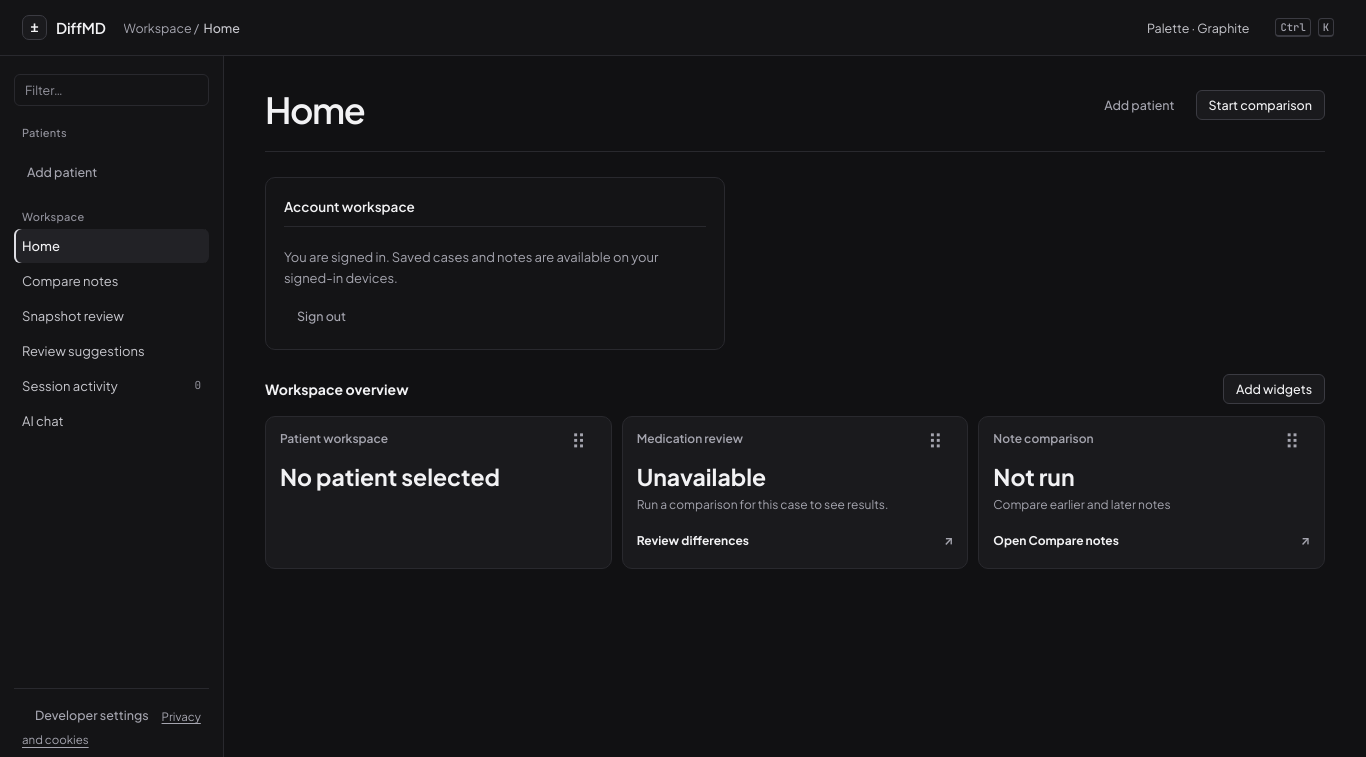
Test: Account workspace › creates an account case without uploading browser cases or writing on each keystroke
Later steps or results of the test are not shown.
Click the 1st button "Add patient" at [1139, 105], box [1091, 90, 1188, 120]
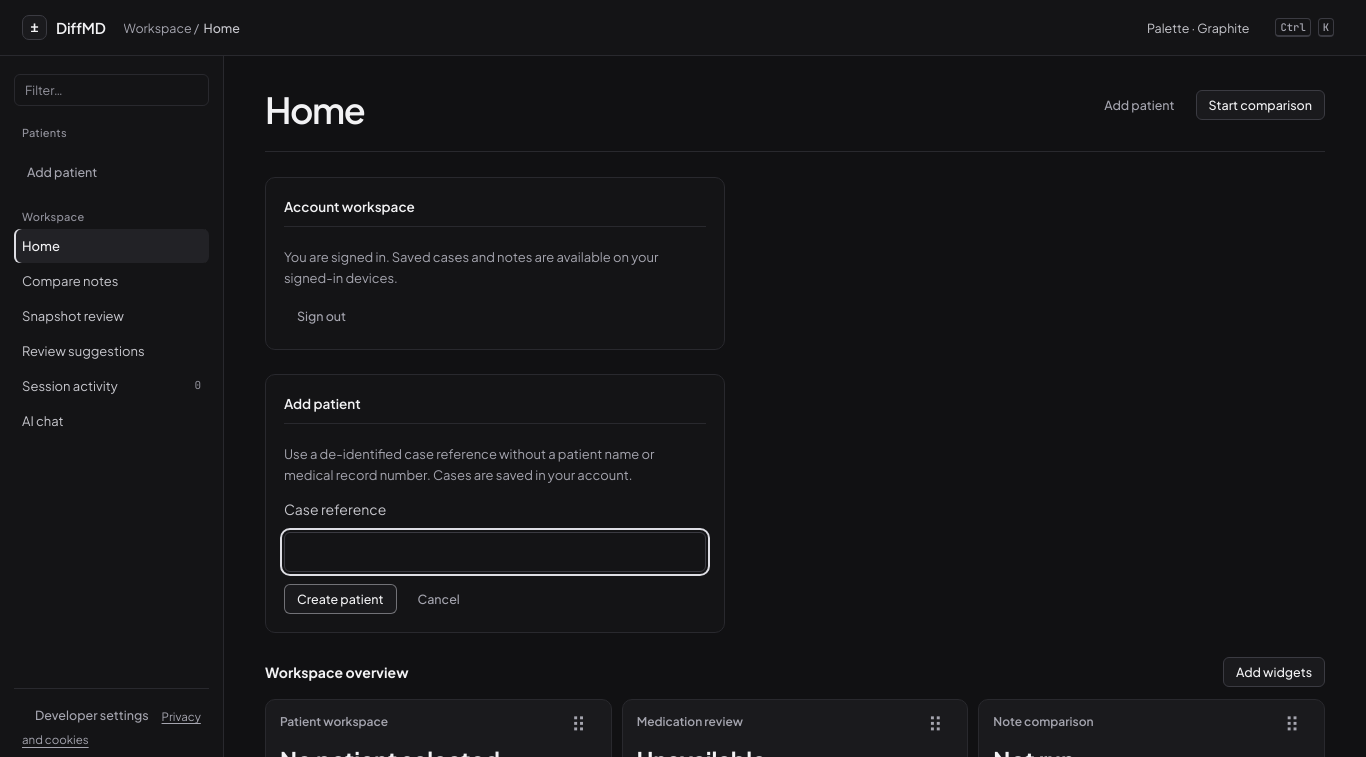
Type "Cloud reference" into the field labelled "Case reference" at [495, 552], box [284, 532, 706, 572]
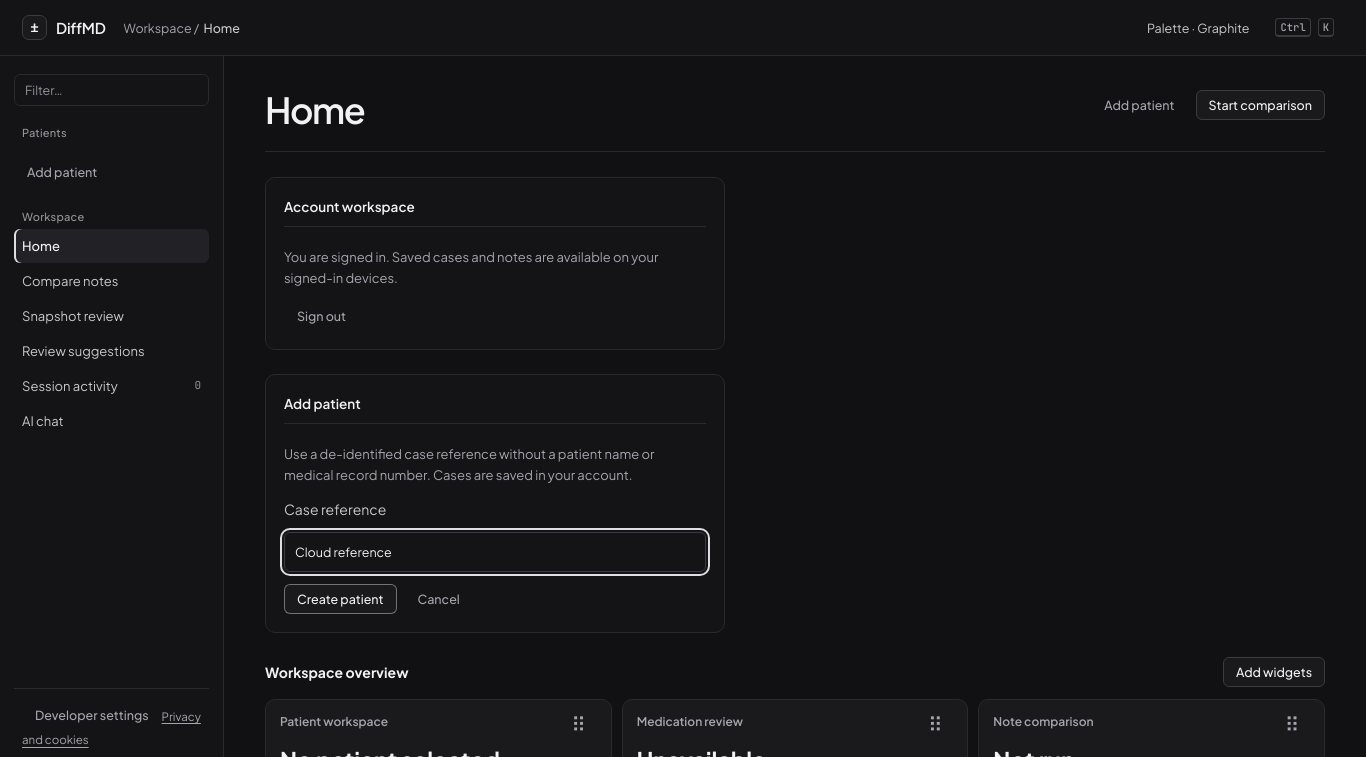
Click the button "Create patient" at [340, 599], box [284, 584, 397, 614]
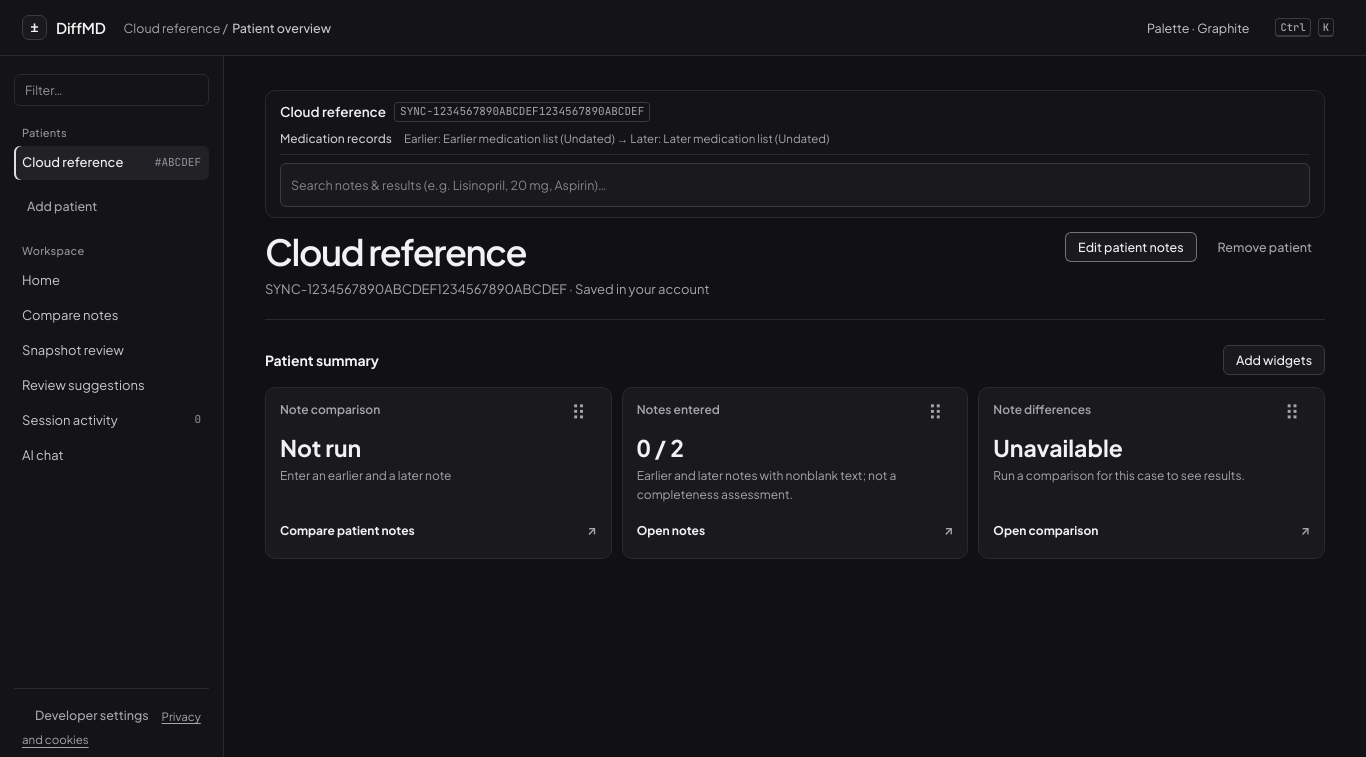
Click the button "Edit patient notes" at [1131, 247], box [1065, 232, 1197, 262]
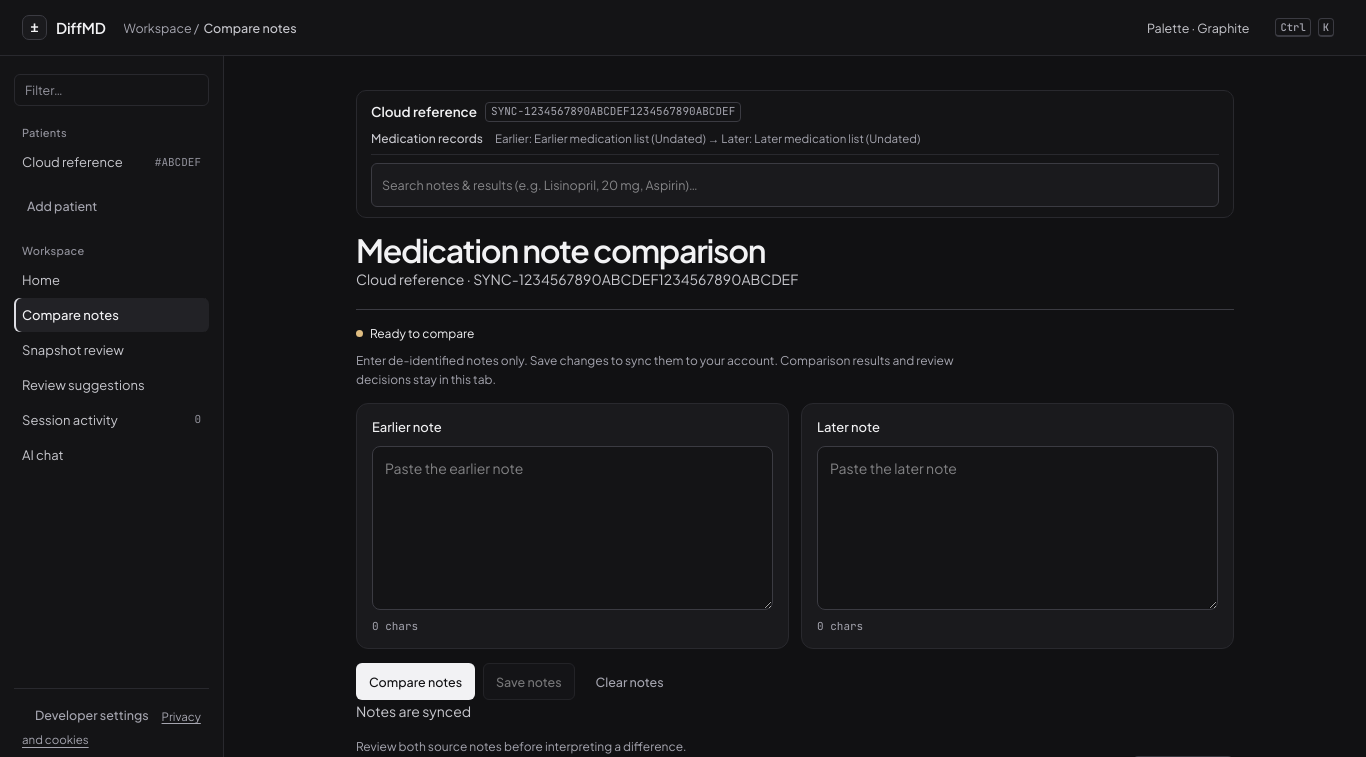
Type "Continue metformin 500 mg daily." into the text box labelled "Earlier note" at [572, 528], box [372, 446, 773, 610]
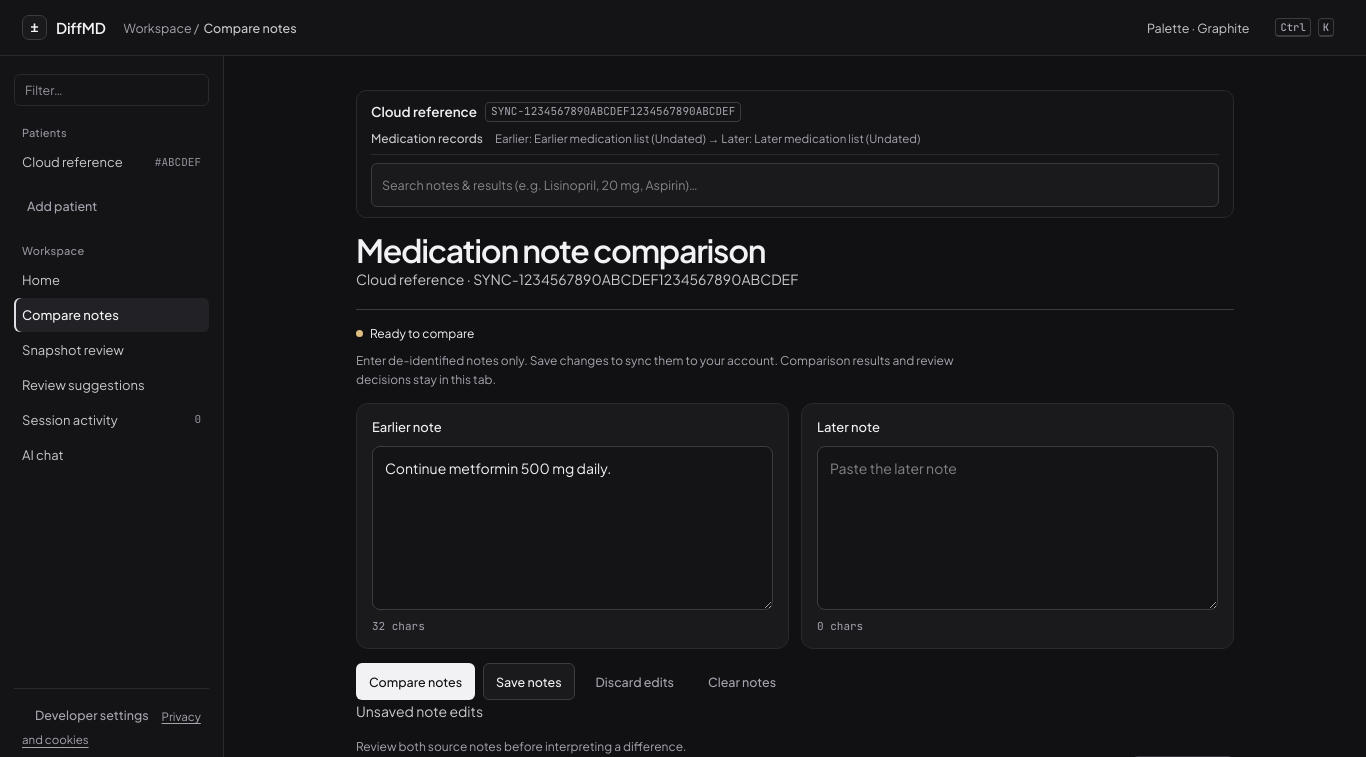
Click the button "Save notes" at [529, 682], box [483, 664, 575, 700]
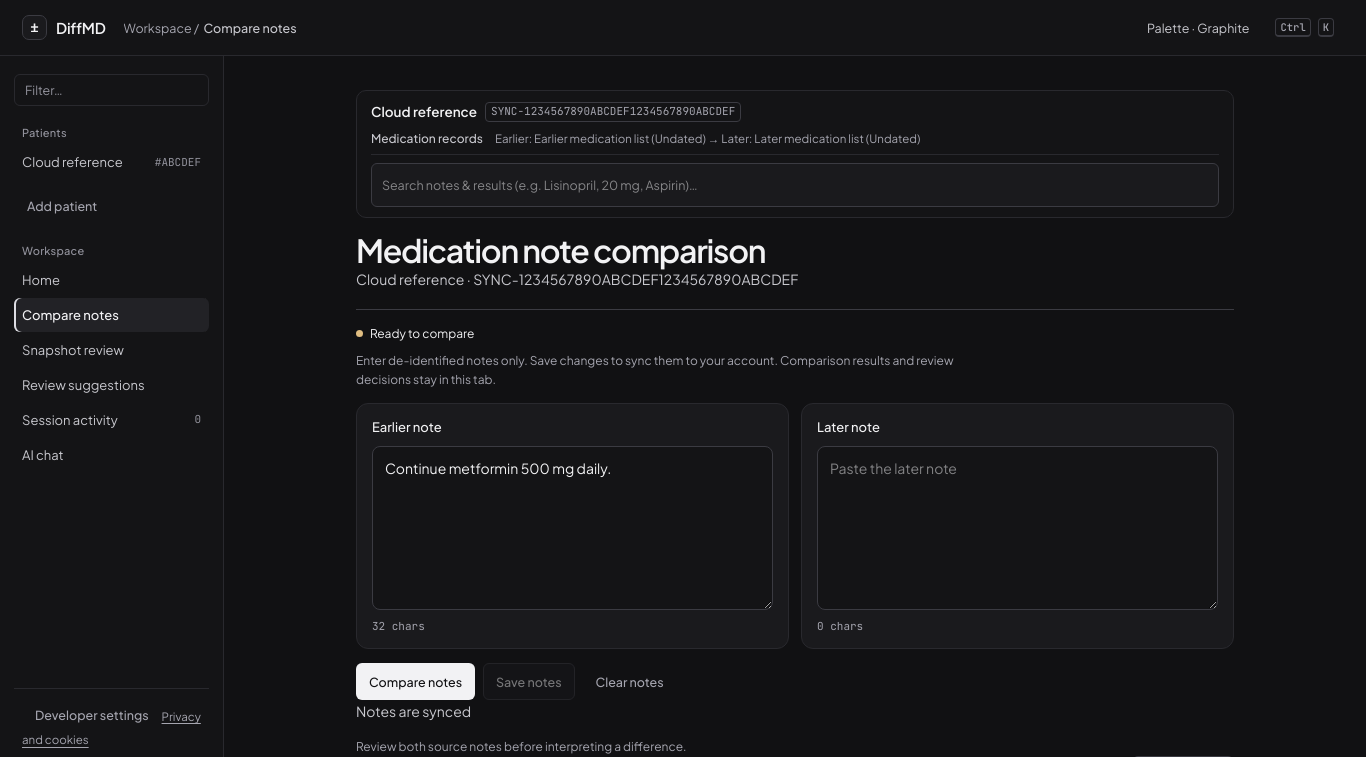
Result: the text "Notes are synced" is shown at [356, 702, 471, 720]
